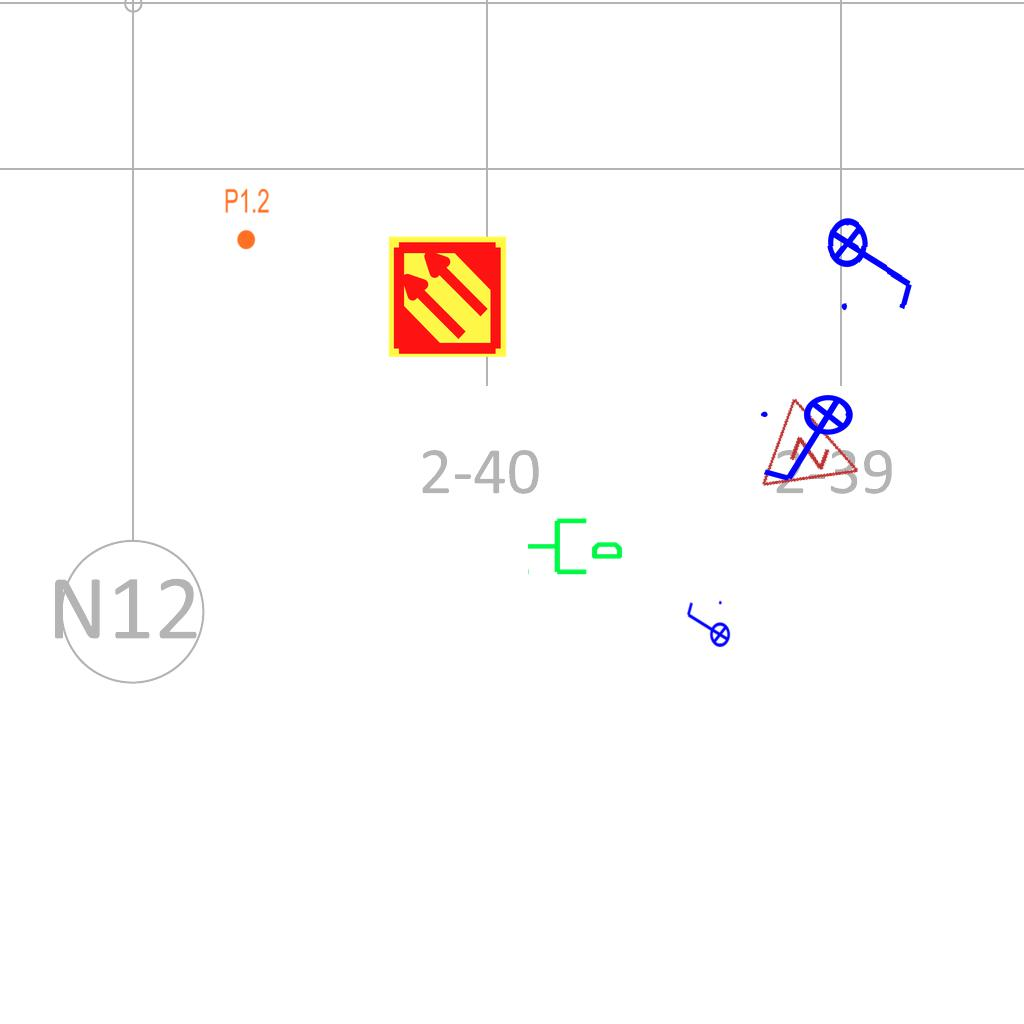ASR_Ansaugrauchmelder: (385, 234, 510, 359)
Ausschalter_beleuchtet: (823, 203, 923, 319), (755, 393, 867, 489), (683, 598, 731, 654)
Datenanschluss_einfach: (525, 510, 625, 579)
Downlight_LED_Einbauleuchten_Flur: (224, 187, 270, 251)
Zimmersignalleuchte: (754, 391, 882, 519)
